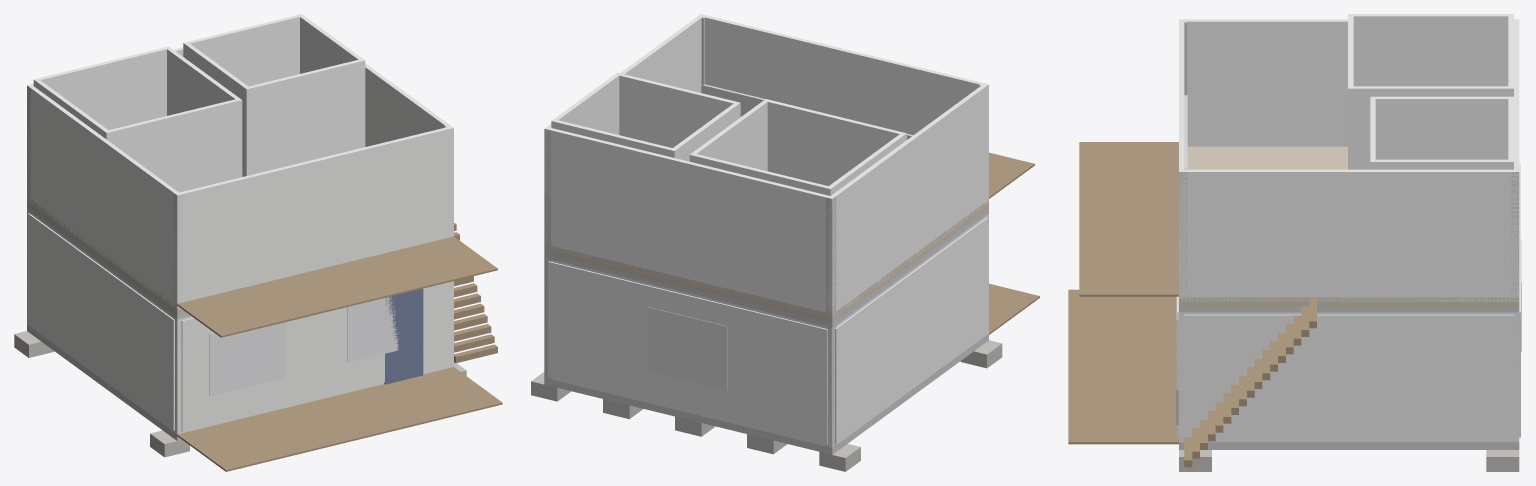
The model's file is Duplex-20-Premium+TerraceDeck-LOD1.glb.
The picture shows the model from 3 angles, left to right: view 1: azimuth 30°, elevation 25°; view 2: azimuth 150°, elevation 25°; view 3: azimuth 270°, elevation 25°; orthographic projection. The views are drawn at different scales.
Parts seen in each view (by area): view 1: ExteriorShellUpper, ExteriorPanelsPremium, StudyUpper, BedroomUpper, BalconyUpper, TerraceDeck, WindowsLargeUpgrade, BalconyGround, EntryDoor, StaircaseExternal, ExteriorShell, FoundationBlocks (+4 smaller); view 2: ExteriorShellUpper, ExteriorPanelsPremium, BedroomUpper, StudyUpper, WindowsLargeUpgrade, FloorUpper, VerticalStructure, FoundationBlocks, BaseFrame, ExteriorShell, TopFrame, BalconyUpper (+3 smaller); view 3: ExteriorShellUpper, ExteriorPanelsPremium, TerraceDeck, BalconyUpper, BedroomUpper, StudyUpper, FloorUpper, BalconyGround, StaircaseExternal, ExteriorShell, BaseFrame, TopFrame (+2 smaller).
Part boxes in pixels (x1=…): ExteriorShellUpper: x1=27, y1=47, x2=453, y2=309; ExteriorPanelsPremium: x1=28, y1=213, x2=450, y2=431; StudyUpper: x1=183, y1=14, x2=365, y2=176; BedroomUpper: x1=33, y1=46, x2=242, y2=191; BalconyUpper: x1=177, y1=236, x2=497, y2=337; TerraceDeck: x1=177, y1=367, x2=502, y2=471; WindowsLargeUpgrade: x1=209, y1=288, x2=423, y2=396; BalconyGround: x1=177, y1=367, x2=490, y2=459; EntryDoor: x1=384, y1=288, x2=423, y2=384; StaircaseExternal: x1=454, y1=223, x2=497, y2=363; ExteriorShell: x1=27, y1=209, x2=453, y2=434; FoundationBlocks: x1=14, y1=331, x2=466, y2=457; ExteriorShellUpper: x1=544, y1=14, x2=988, y2=318; ExteriorPanelsPremium: x1=548, y1=217, x2=987, y2=444; BedroomUpper: x1=689, y1=99, x2=906, y2=195; StudyUpper: x1=551, y1=72, x2=740, y2=161; WindowsLargeUpgrade: x1=647, y1=307, x2=727, y2=390; FloorUpper: x1=544, y1=201, x2=988, y2=323; VerticalStructure: x1=544, y1=17, x2=981, y2=447; FoundationBlocks: x1=531, y1=340, x2=1002, y2=471; BaseFrame: x1=544, y1=333, x2=988, y2=454; ExteriorShell: x1=545, y1=214, x2=988, y2=447; TopFrame: x1=544, y1=209, x2=988, y2=327; BalconyUpper: x1=989, y1=152, x2=1034, y2=198; ExteriorShellUpper: x1=1179, y1=19, x2=1519, y2=302; ExteriorPanelsPremium: x1=1177, y1=164, x2=1520, y2=440; TerraceDeck: x1=1068, y1=289, x2=1178, y2=444; BalconyUpper: x1=1079, y1=142, x2=1178, y2=296; BedroomUpper: x1=1348, y1=14, x2=1513, y2=169; StudyUpper: x1=1370, y1=96, x2=1513, y2=169; FloorUpper: x1=1179, y1=146, x2=1519, y2=307; BalconyGround: x1=1096, y1=296, x2=1178, y2=444; StaircaseExternal: x1=1184, y1=298, x2=1316, y2=467; ExteriorShell: x1=1179, y1=312, x2=1519, y2=442; BaseFrame: x1=1179, y1=442, x2=1519, y2=449; TopFrame: x1=1179, y1=307, x2=1518, y2=312.
Size of the model in its own units: 7.94 by 6 by 8.2.
